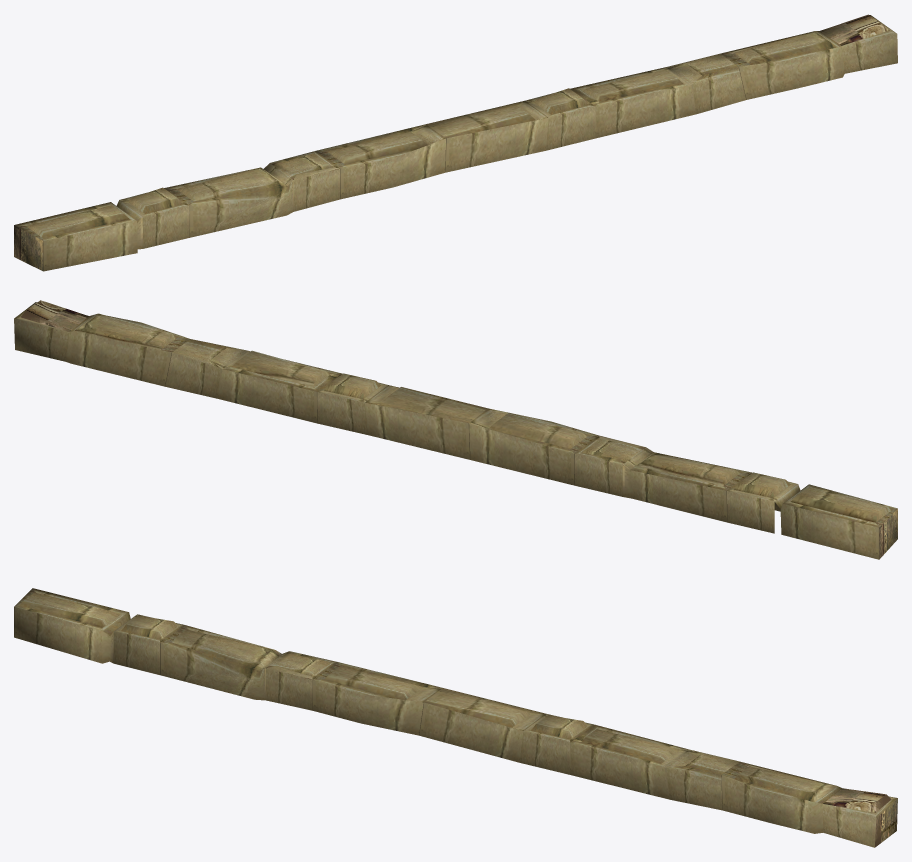
The model's file is S_Build_Wilderness048.FBX.
The picture shows the model from 3 angles, top to bottom: view 1: azimuth 30°, elevation 25°; view 2: azimuth 150°, elevation 25°; view 3: azimuth 330°, elevation 25°; orthographic projection.
Parts seen in each view (by area): view 1: S_Build_Wilderness048; view 2: S_Build_Wilderness048; view 3: S_Build_Wilderness048.
Part boxes in pixels (bbox=[...]): S_Build_Wilderness048: bbox=[14, 14, 897, 271]; S_Build_Wilderness048: bbox=[14, 300, 897, 559]; S_Build_Wilderness048: bbox=[14, 588, 897, 847].
Bounding box in the file's own units: 1576 × 91.32 × 66.37.
